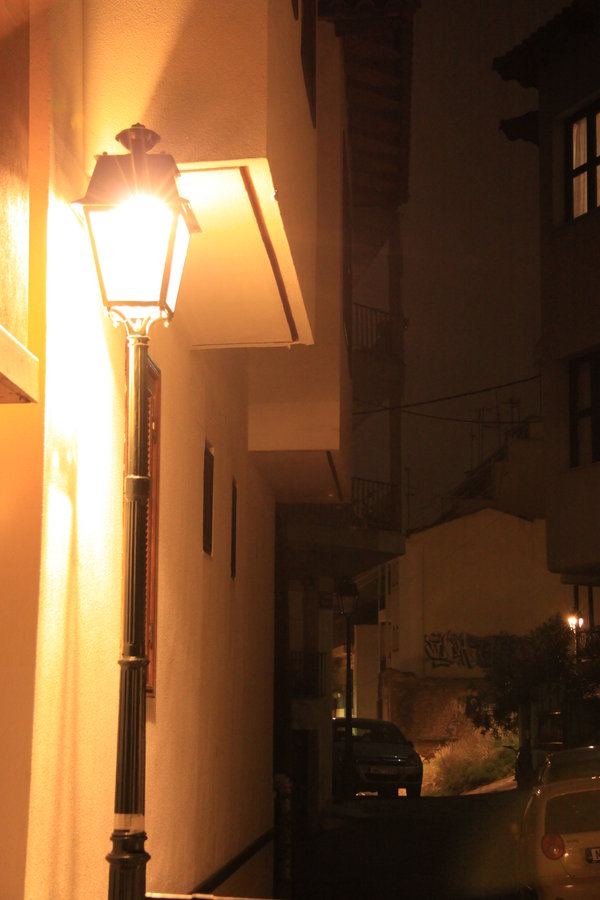car: (317, 711, 444, 812)
